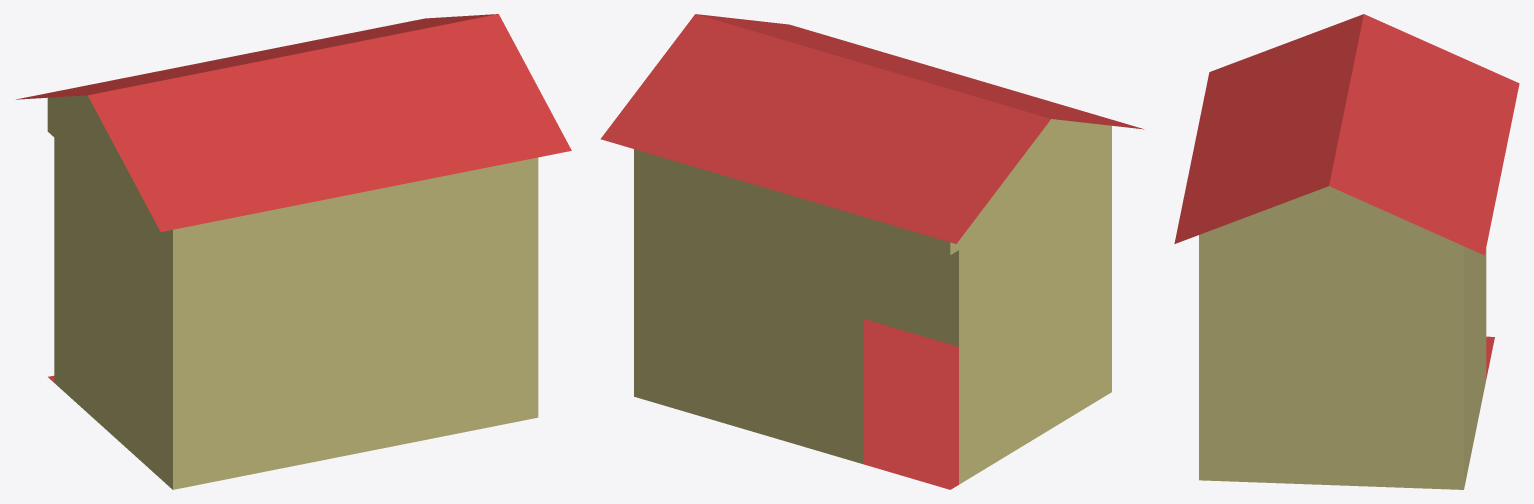
3 renders of one model, left to right at view 1: azimuth 30°, elevation 25°; view 2: azimuth 150°, elevation 25°; view 3: azimuth 270°, elevation 25°, orthographic. The views are drawn at different scales.
Bounding box in the file's own units: 14.33 × 11.4 × 11.24.
